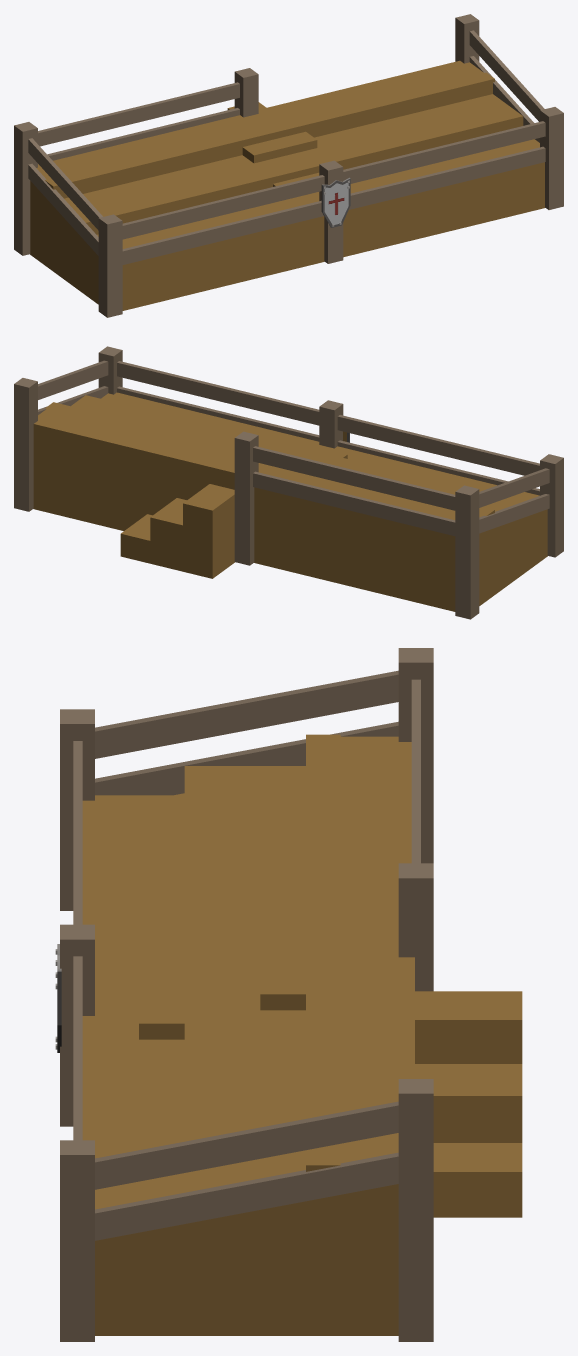
The model's file is Stands.gltf.
3 views of the same model, one above another, from view 1: azimuth 30°, elevation 25°; view 2: azimuth 150°, elevation 25°; view 3: azimuth 270°, elevation 25° (orthographic). The views are drawn at different scales.
Parts seen in each view (by area): view 1: SF_Bld_Stands_01; view 2: SF_Bld_Stands_01; view 3: SF_Bld_Stands_01.
Boxes of the visible parts, box(x1,y1,x2,y2) form: SF_Bld_Stands_01: box(14, 14, 563, 317); SF_Bld_Stands_01: box(14, 346, 563, 619); SF_Bld_Stands_01: box(55, 648, 522, 1341).
Bounding box in the file's own units: 0.1551 × 0.0405 × 0.0686.
1 material, 1 textured.
